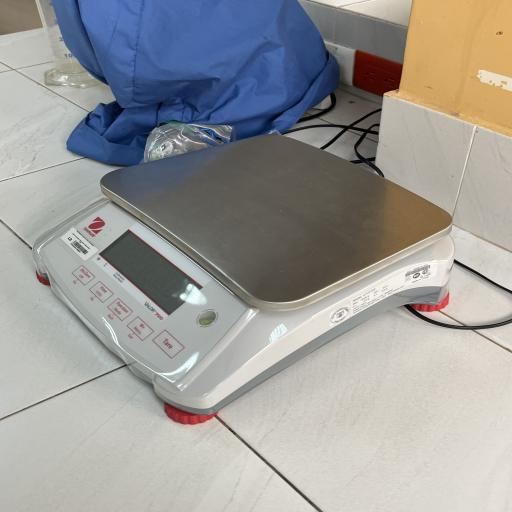Balanza_Granataria_Ohaus: (2, 128, 478, 435)
